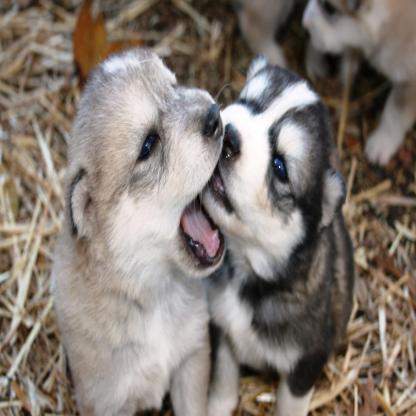husky: (50, 47, 221, 416), (208, 60, 352, 416)
